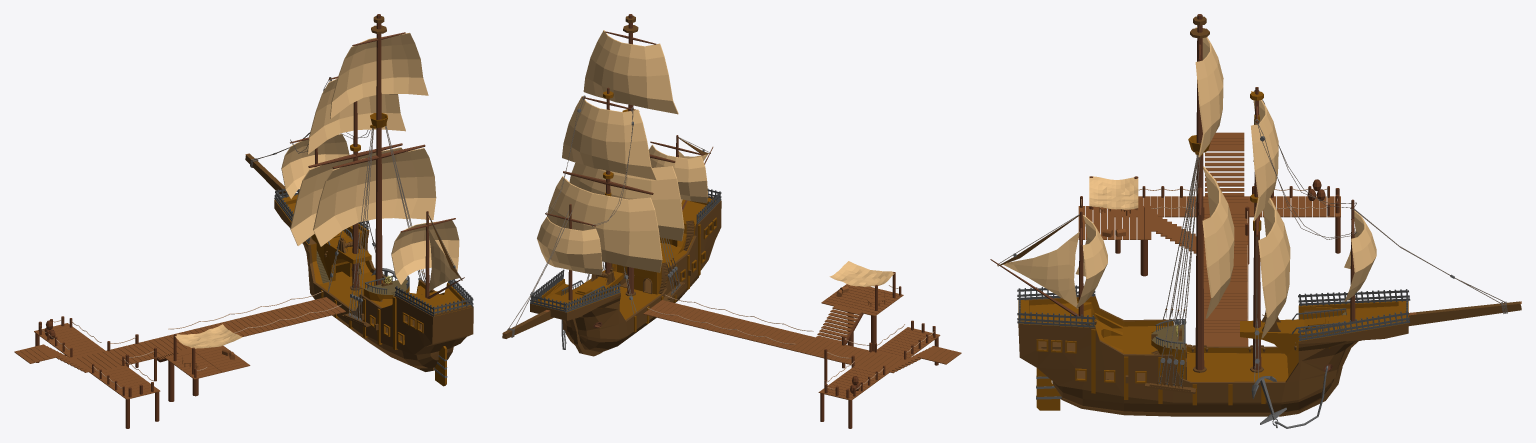
Rendered from boat.glb.
3 views of the same model, side by side, from view 1: azimuth 30°, elevation 25°; view 2: azimuth 150°, elevation 25°; view 3: azimuth 270°, elevation 25° (orthographic). The views are drawn at different scales.
Parts seen in each view (by area): view 1: Cube.010; view 2: Cube.010; view 3: Cube.010.
Part boxes in pixels (x1,y1,x2,y2): Cube.010: (14,14,473,428); Cube.010: (502,14,961,428); Cube.010: (990,14,1521,428).
Bounding box in the file's own units: 43.62 × 33.45 × 40.21.
